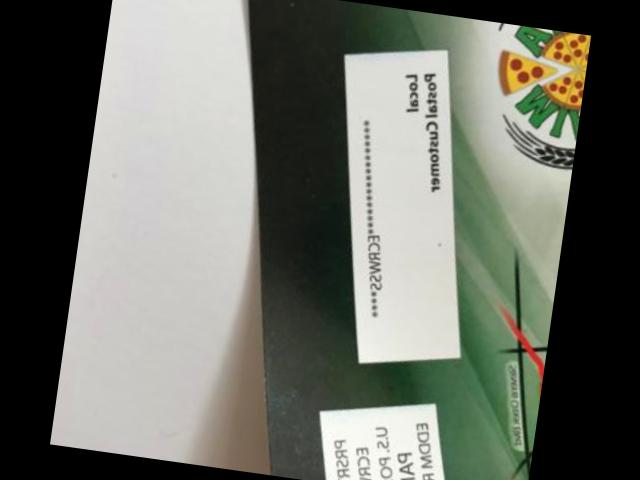cardboard paper: (247, 0, 591, 480)
